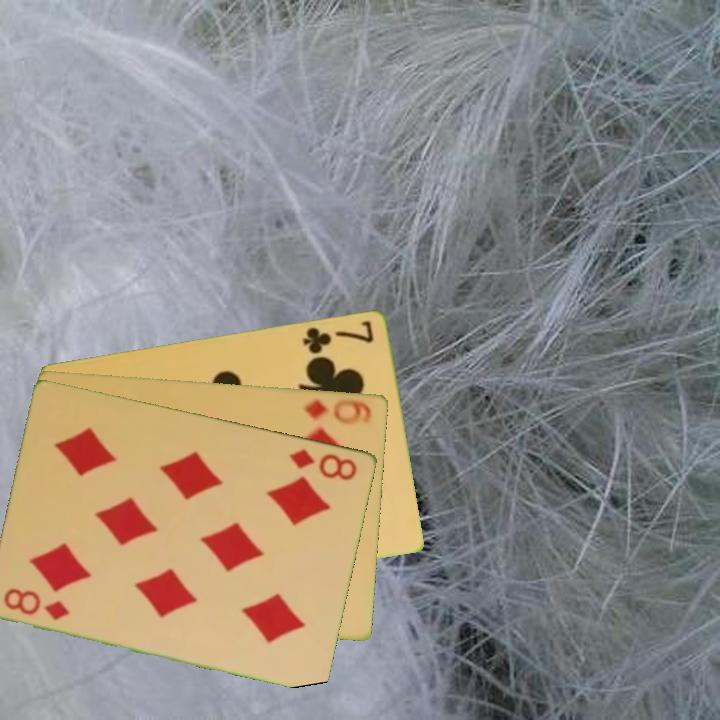6d: (301, 395, 374, 428)
7c: (299, 316, 377, 357)
8d: (286, 445, 361, 483), (1, 585, 73, 623)
